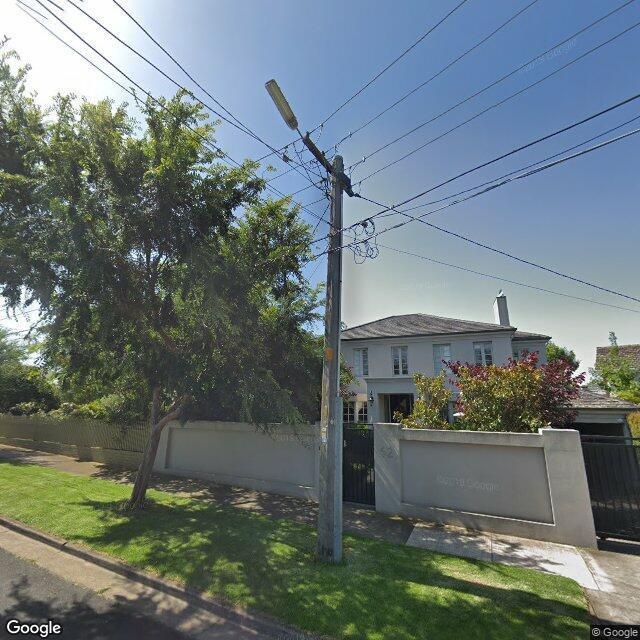crossarm: (302, 137, 353, 197)
streetlight: (265, 79, 303, 140)
timber-pole: (315, 155, 343, 564)
